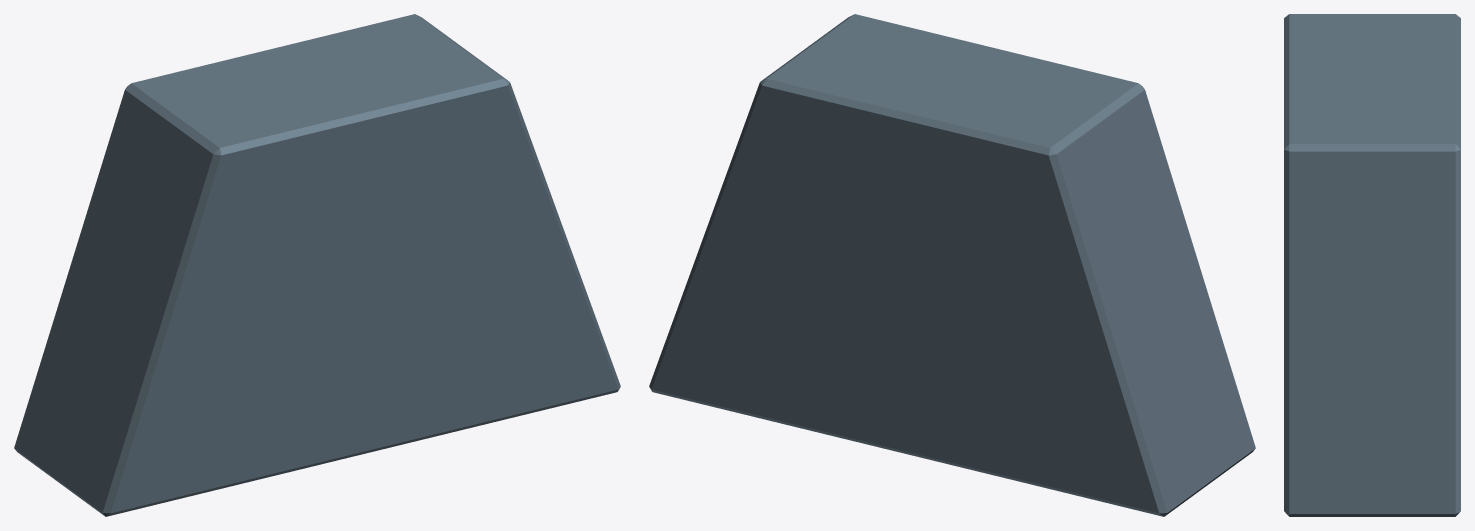
The model's file is P20_Trapezoid.fbx.
The picture shows the model from 3 angles, left to right: view 1: azimuth 30°, elevation 25°; view 2: azimuth 150°, elevation 25°; view 3: azimuth 270°, elevation 25°; orthographic projection. The views are drawn at different scales.
Visible parts, largest first — view 1: P20_Trapezoid; view 2: P20_Trapezoid; view 3: P20_Trapezoid.
Boxes of the visible parts, x1=… form: P20_Trapezoid: x1=14, y1=14, x2=620, y2=516; P20_Trapezoid: x1=649, y1=14, x2=1255, y2=516; P20_Trapezoid: x1=1284, y1=14, x2=1460, y2=516.
Size of the model in its own units: 1.59 by 1 by 0.5.
1 material, 1 textured.
